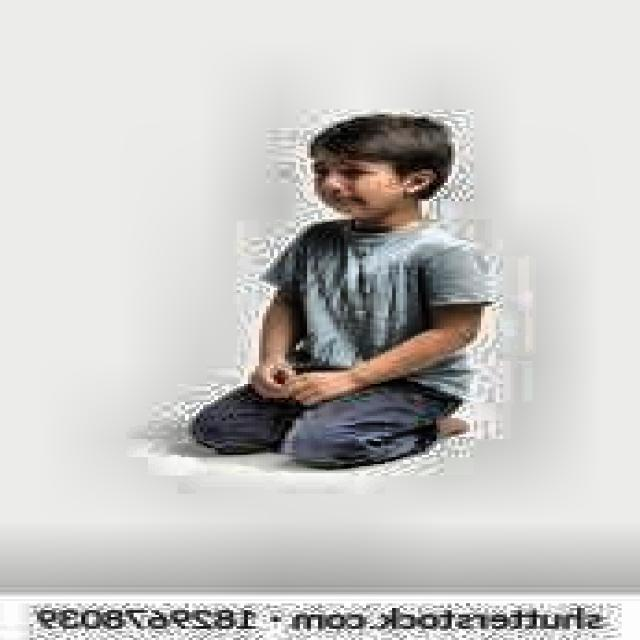Human: (180, 98, 514, 493)
